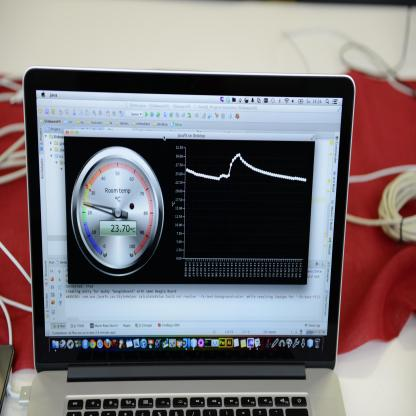board: (5, 60, 360, 400)
